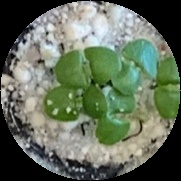Basil: (57, 47, 118, 85), (113, 39, 155, 94), (43, 83, 99, 121), (93, 92, 131, 145), (153, 55, 181, 121)
